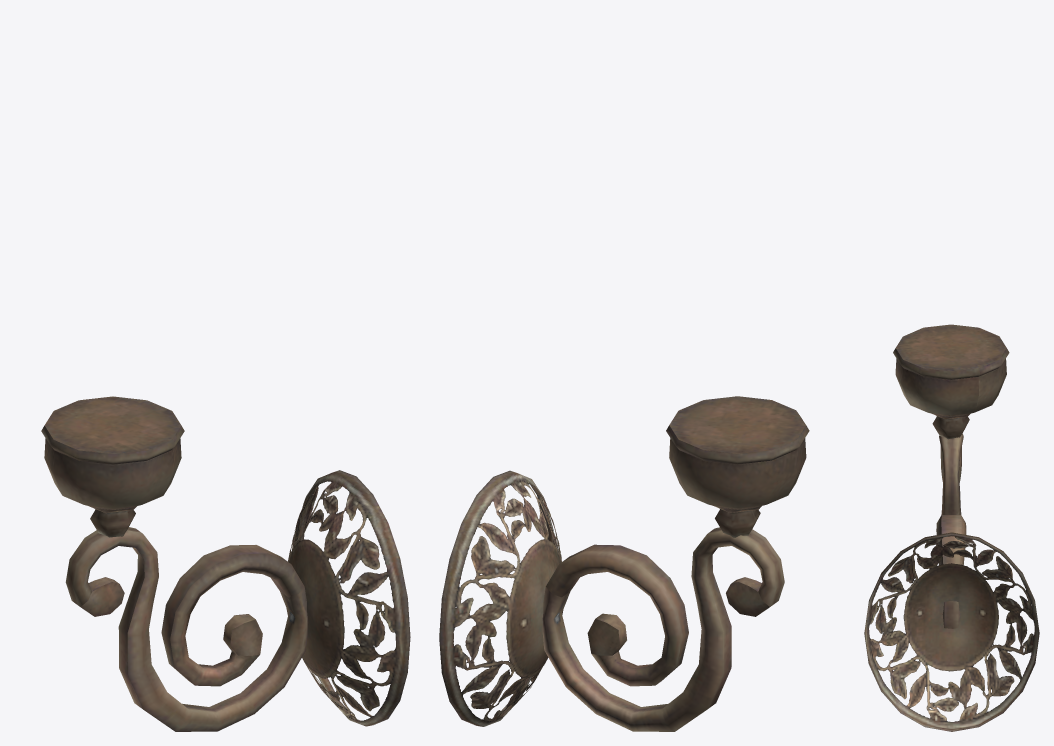
File: Walllight.fbx
3 views of the same model, side by side, from view 1: azimuth 30°, elevation 25°; view 2: azimuth 150°, elevation 25°; view 3: azimuth 270°, elevation 25° (orthographic). The views are drawn at different scales.
Visible parts, largest first — view 1: LODGroup_1_MainMesh_1_SubMesh_1; view 2: LODGroup_1_MainMesh_1_SubMesh_1; view 3: LODGroup_1_MainMesh_1_SubMesh_1.
Part boxes in pixels (x1,y1,x2,y2): LODGroup_1_MainMesh_1_SubMesh_1: (41,396,410,731); LODGroup_1_MainMesh_1_SubMesh_1: (439,396,809,731); LODGroup_1_MainMesh_1_SubMesh_1: (864,324,1039,731).
Size of the model in its own units: 25.11 by 52.96 by 14.26.
